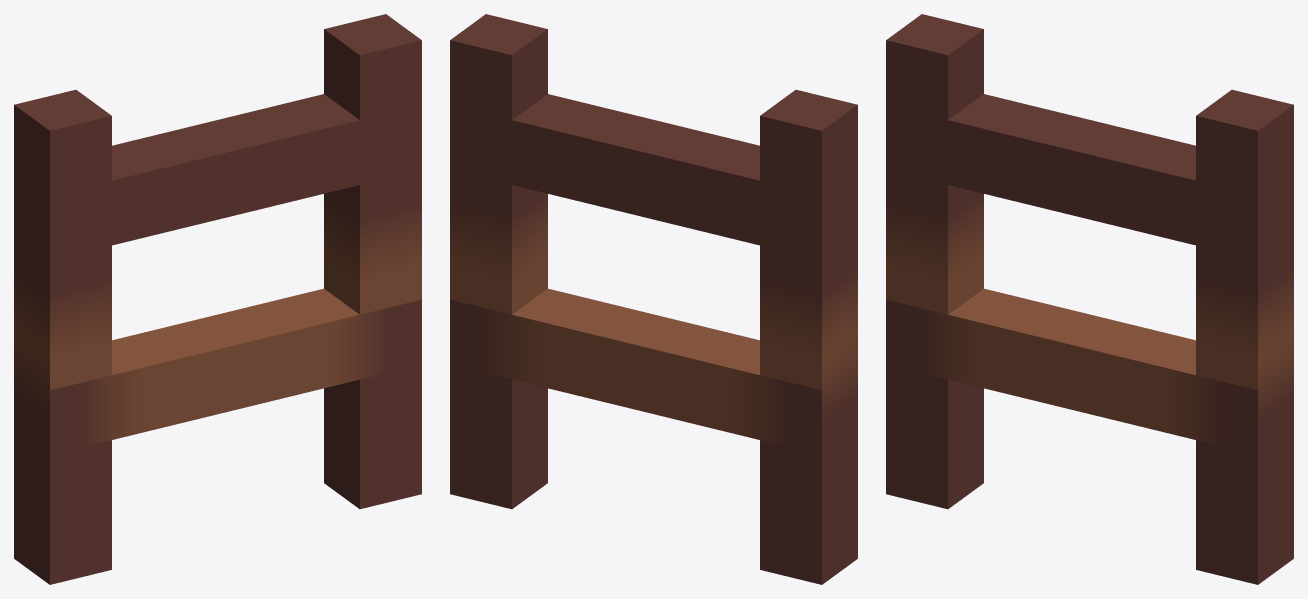
File: ladder_down.fbx
The picture shows the model from 3 angles, left to right: view 1: azimuth 30°, elevation 25°; view 2: azimuth 150°, elevation 25°; view 3: azimuth 330°, elevation 25°; orthographic projection.
Visible parts, largest first — view 1: ladder_down; view 2: ladder_down; view 3: ladder_down.
Part boxes in pixels (<box>): ladder_down: <box>14,14,421,584</box>; ladder_down: <box>450,14,857,584</box>; ladder_down: <box>886,14,1293,584</box>.
Bounding box in the file's own units: 6 × 7 × 1.
